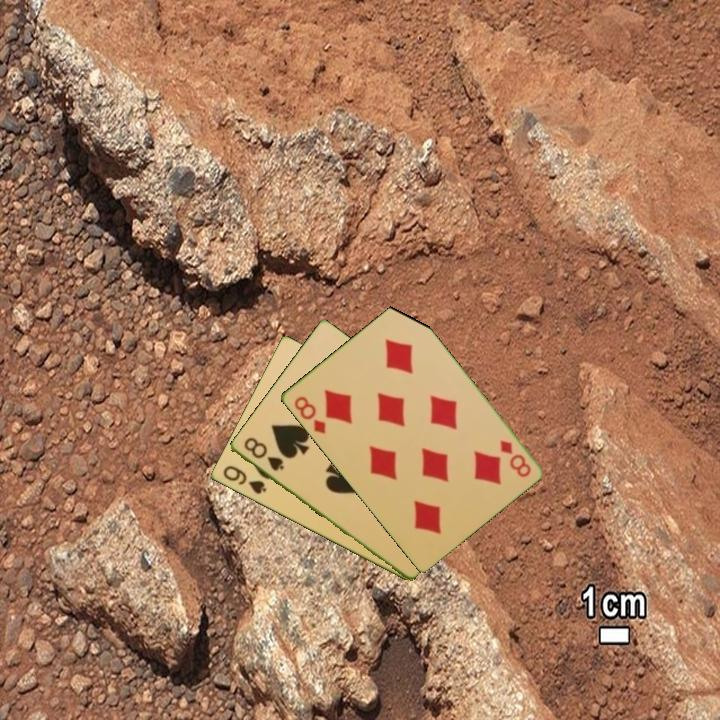8d: (290, 392, 328, 437), (496, 436, 534, 480)
8s: (240, 434, 286, 474)
9s: (219, 462, 269, 497)
